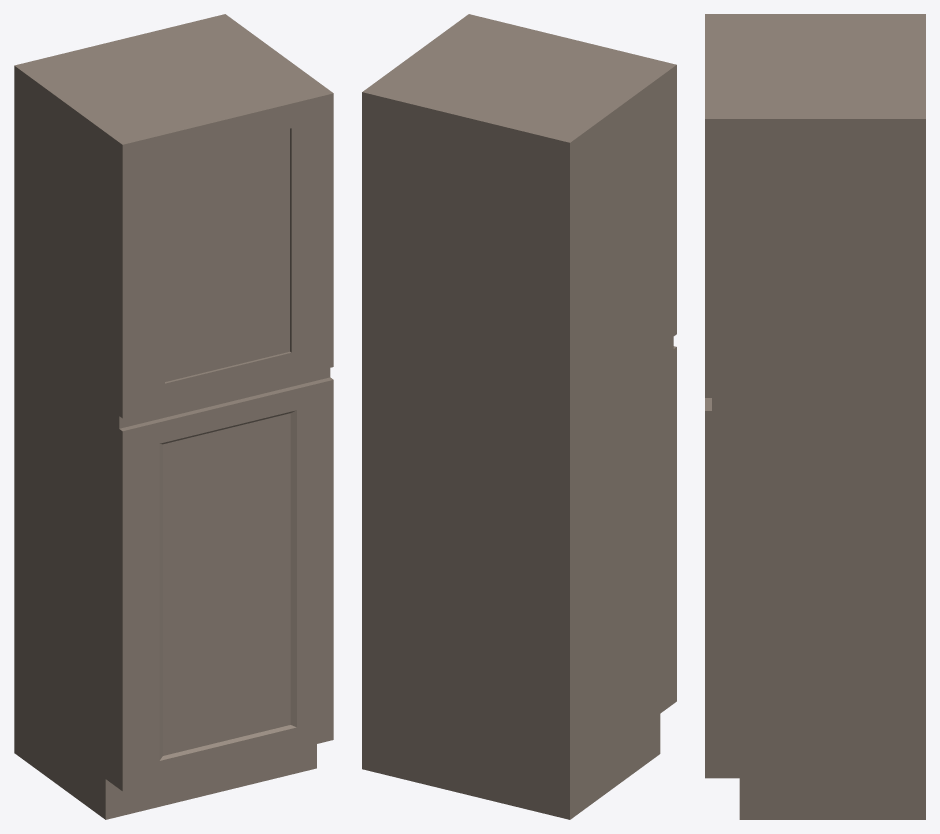
File: Utility-Cabinet-24-Deep_std_001_W27in_2D.glb
3 renders of one model, left to right at view 1: azimuth 30°, elevation 25°; view 2: azimuth 150°, elevation 25°; view 3: azimuth 270°, elevation 25°, orthographic. The views are drawn at different scales.
Parts seen in each view (by area): view 1: Utility-Cabinet-24-Deep.std.001_W27in_2D; view 2: Utility-Cabinet-24-Deep.std.001_W27in_2D; view 3: Utility-Cabinet-24-Deep.std.001_W27in_2D.
Part boxes in pixels (left/top/right/bottom): Utility-Cabinet-24-Deep.std.001_W27in_2D: left=14, top=14, right=333, bottom=819; Utility-Cabinet-24-Deep.std.001_W27in_2D: left=362, top=14, right=676, bottom=819; Utility-Cabinet-24-Deep.std.001_W27in_2D: left=705, top=14, right=925, bottom=819.
Bounding box in the file's own units: 0.6858 × 2.13 × 0.6096.
